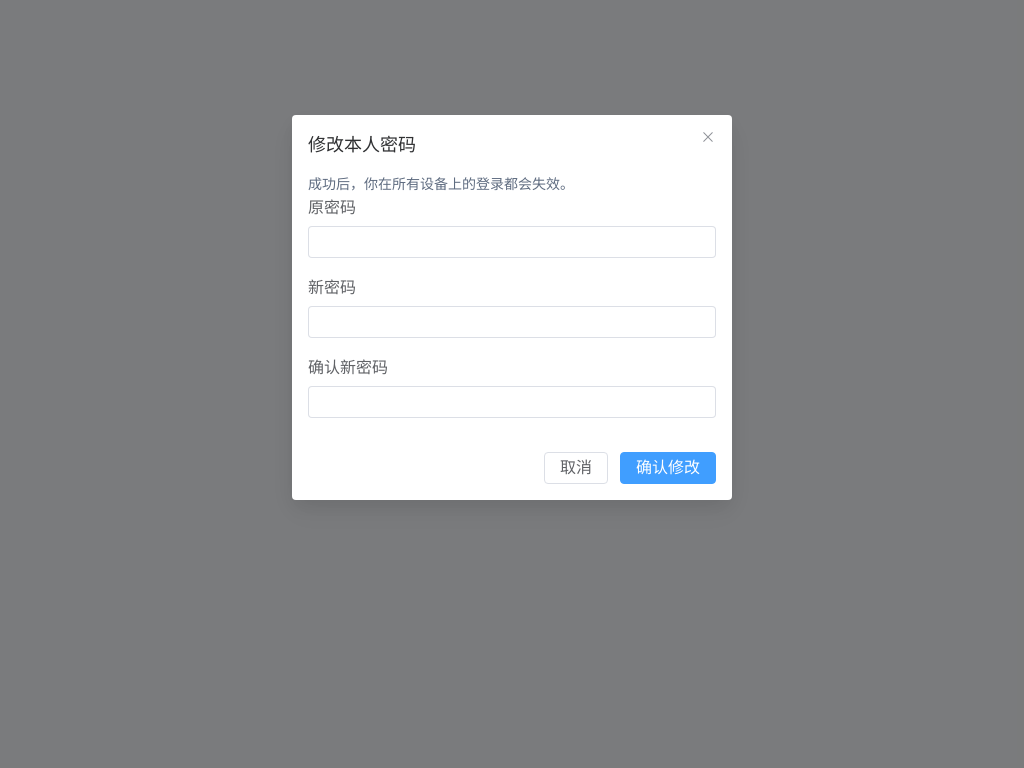
Test: 原密码错误保留登录状态，不跳转
Type "wrong-fixture" into the password field labelled "原密码".
click(512, 242); type("wrong-fixture")  # box [319,227,705,257]
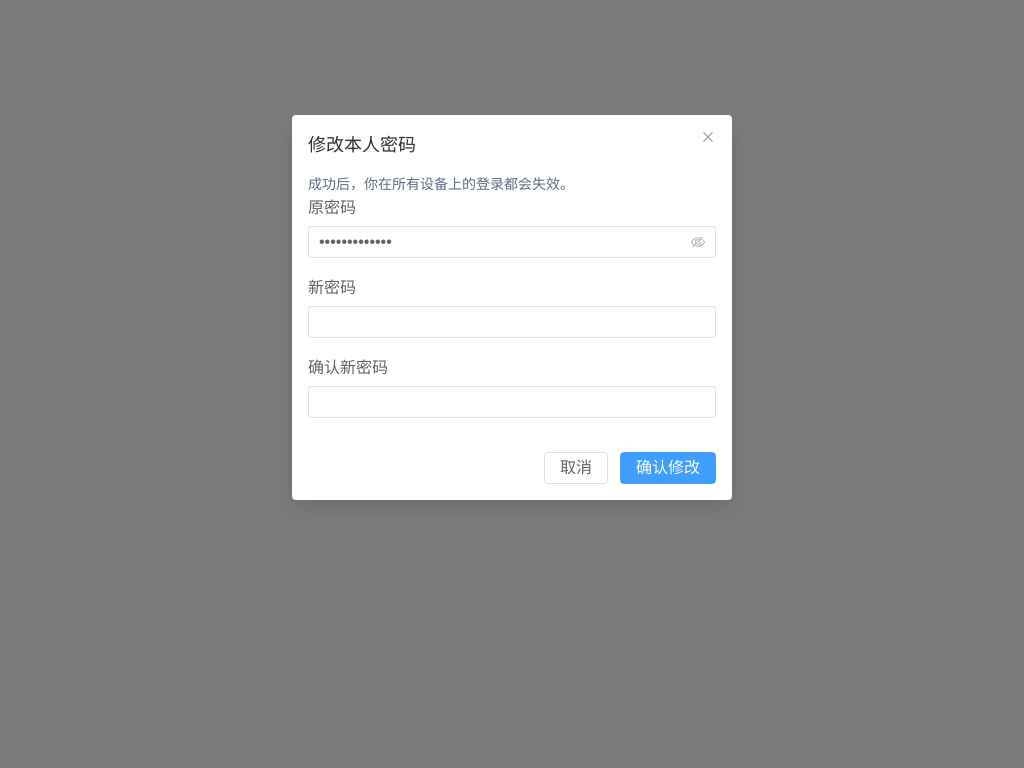
Type "new-fixture" into the password field labelled "新密码".
click(512, 322); type("new-fixture")  # box [319,307,705,337]
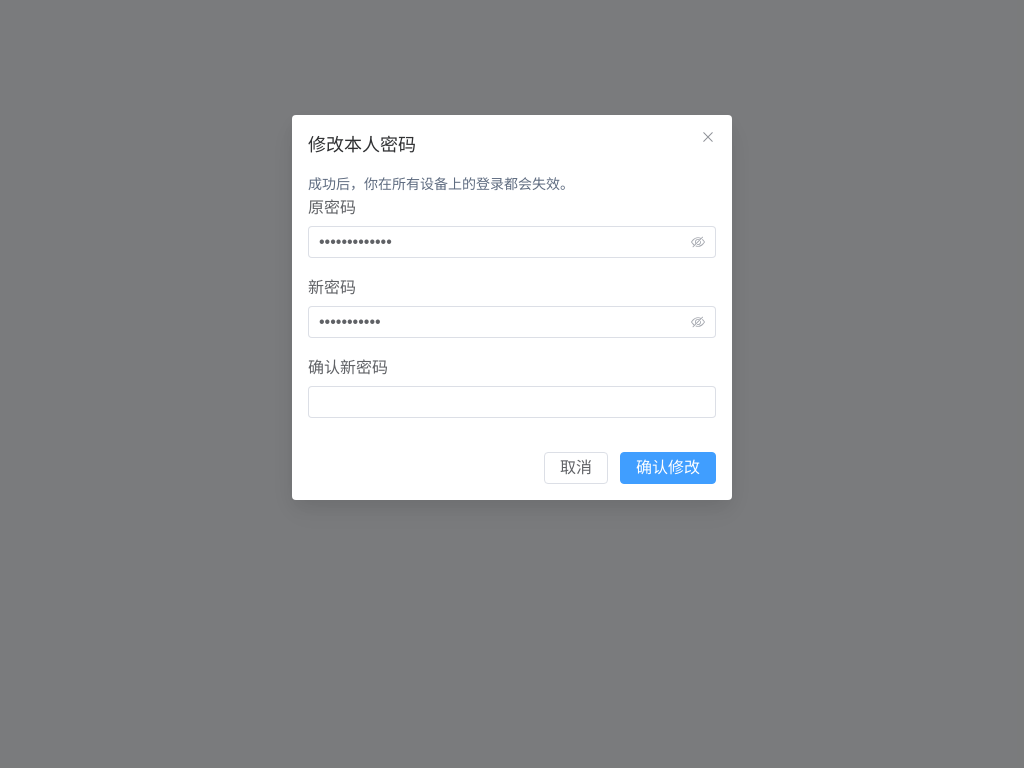
Type "new-fixture" into the password field labelled "确认新密码".
click(512, 402); type("new-fixture")  # box [319,387,705,417]
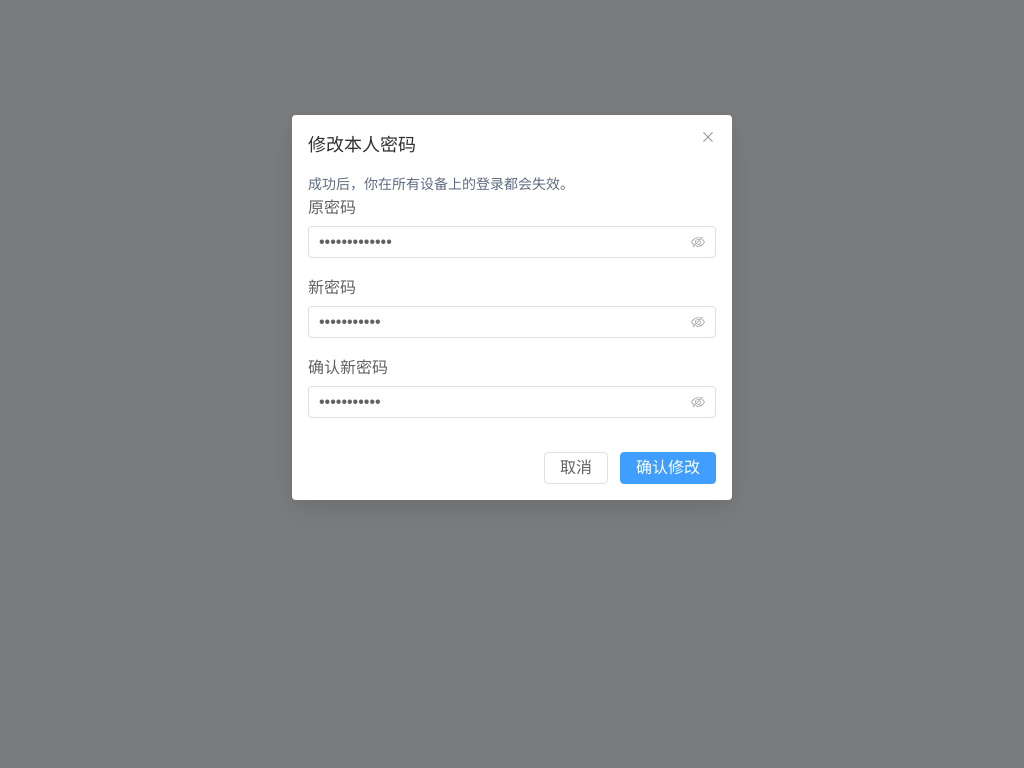
Click the button "确认修改".
click(668, 468)  # box [620,452,716,484]
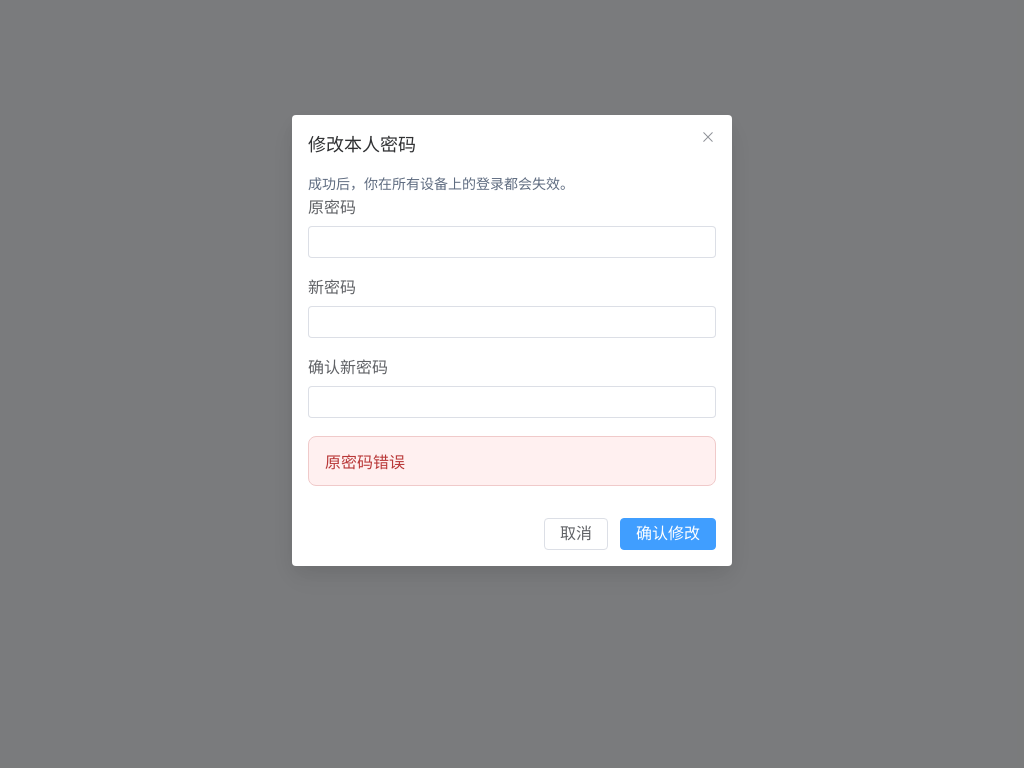
Result: the message "原密码错误" is shown at [308,436,716,486]
